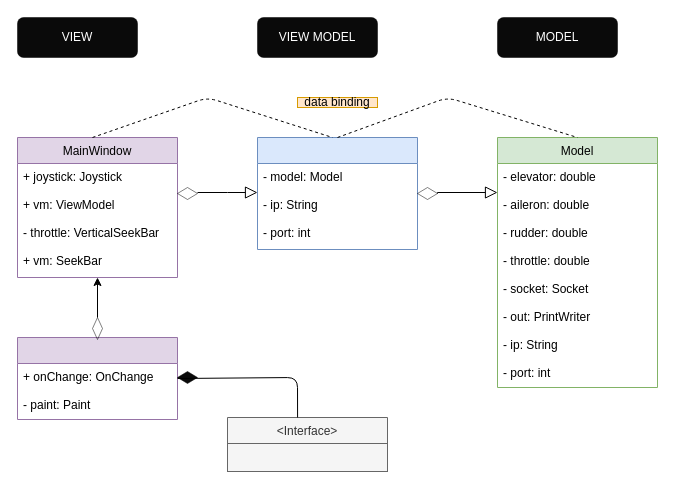
Image size: 675x492. Some labels were removed from this diagram. Each missing label, with the box of its shape:
Joystick: View: (16, 336, 178, 420)
OnChange: (226, 442, 388, 472)
ViewModel: (256, 136, 418, 250)
